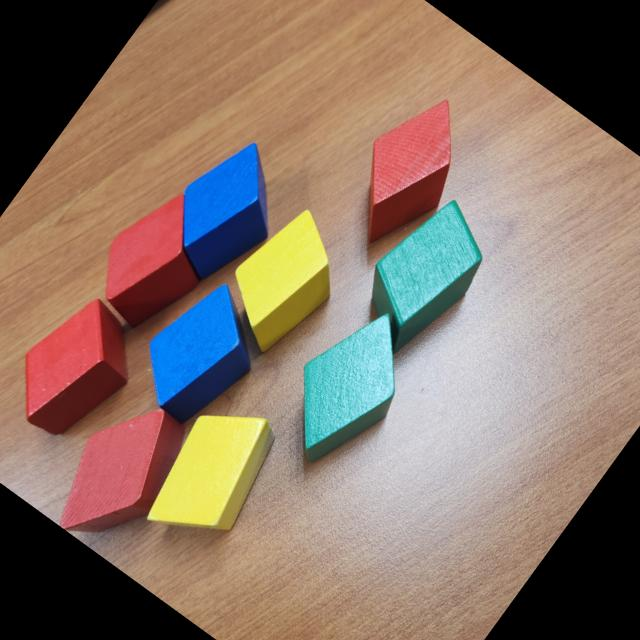blue: (119, 266, 282, 439), (146, 125, 308, 298)
green: (260, 290, 437, 483), (338, 185, 506, 369)
red: (324, 79, 492, 263), (36, 384, 202, 564), (75, 174, 236, 346), (0, 281, 158, 456)
yellow: (130, 386, 296, 564), (204, 196, 362, 366)
